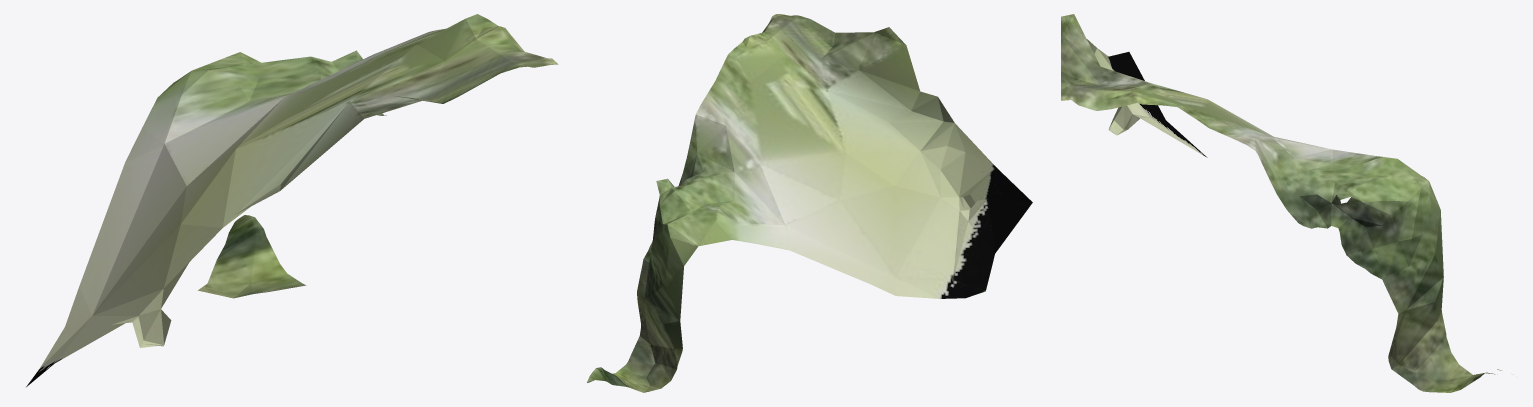
The picture shows the model from 3 angles, left to right: view 1: azimuth 30°, elevation 25°; view 2: azimuth 150°, elevation 25°; view 3: azimuth 270°, elevation 25°; orthographic projection. The views are drawn at different scales.
Bounding box in the file's own units: 31.28 × 27.44 × 35.98.
1 material, 1 textured.
